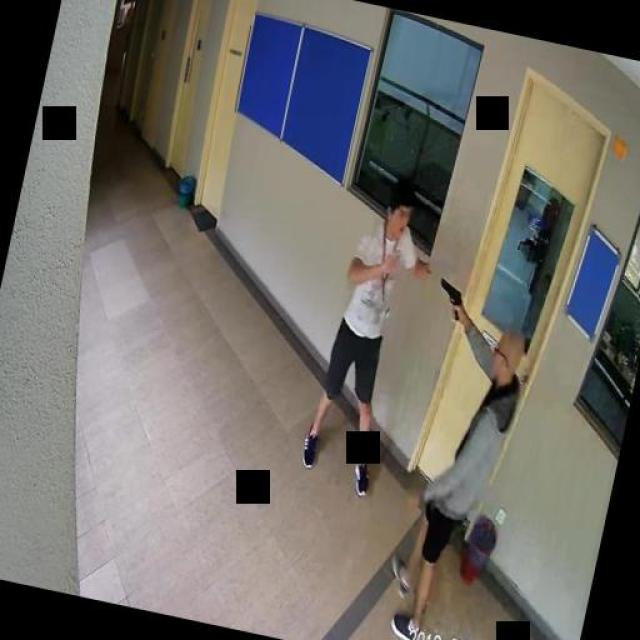gun: (431, 275, 465, 319)
